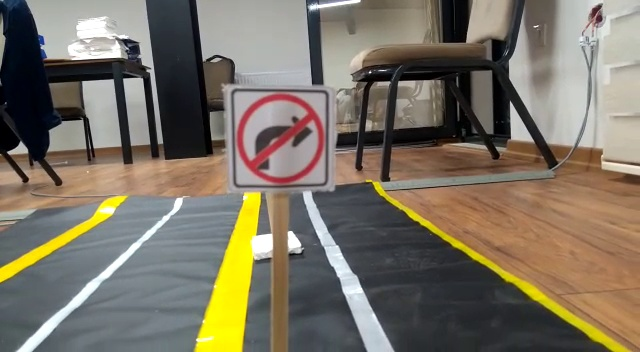saga_donulmez: (225, 88, 327, 188)
